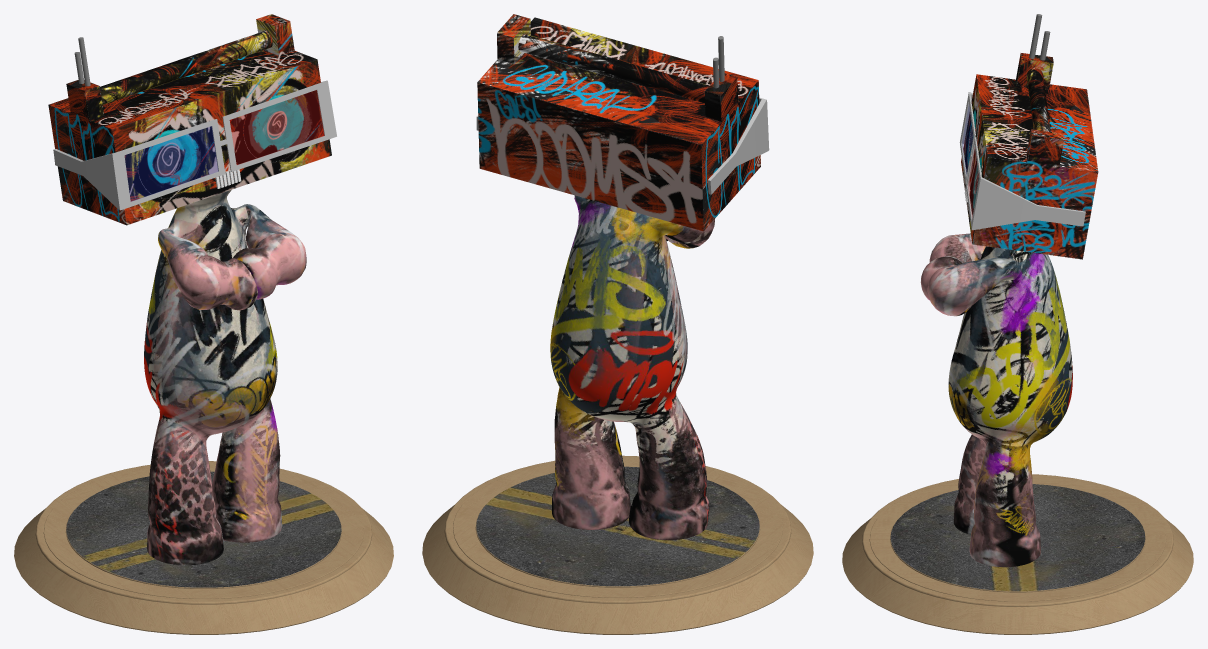
File: 5_sanitized.glb
3 views of the same model, side by side, from view 1: azimuth 30°, elevation 25°; view 2: azimuth 150°, elevation 25°; view 3: azimuth 270°, elevation 25° (orthographic). The views are drawn at different scales.
Visible parts, largest first — view 1: BBody; view 2: BBody; view 3: BBody.
Part boxes in pixels (x1,y1,x2,y2): BBody: [14, 14, 393, 634]; BBody: [422, 14, 813, 634]; BBody: [842, 14, 1193, 634].
Bounding box in the file's own units: 1.45 × 2.25 × 1.45.
9 materials, 4 textured.
